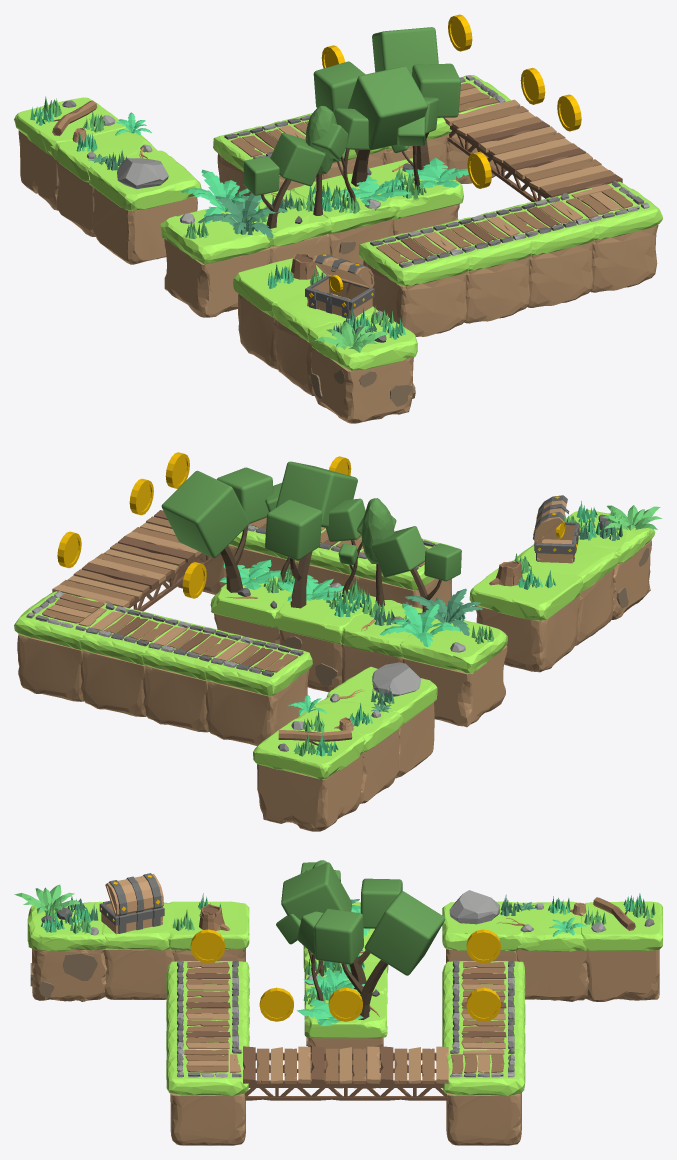
3 views of the same model, one above another, from view 1: azimuth 30°, elevation 25°; view 2: azimuth 150°, elevation 25°; view 3: azimuth 270°, elevation 25° (orthographic). The views are drawn at different scales.
Visible parts, largest first — view 1: TreeV3_004_1, TreeV3_004, Tile_Bot_Part_10, Tile_Bot_Part, Tile_Bot_Part_14, Tile_Bot_Part_15, TreeV3_004_2, Tile_Bot_Part_3, Tile_Bot_Part_2, Tile_Bot_Part_1, Tile_Top_Part_15, Tile_Top_Part_14 (+48 smaller); view 2: TreeV3_004, TreeV3_004_1, Tile_Bot_Part_16, Tile_Bot_Part_7, Tile_Bot_Part_9, Tile_Bot_Part_14, Tile_Top_Part_9, TreeV3_004_2, Tile_Bot_Part_4, Tile_Bot_Part_5, Tile_Bot_Part_6, Tile_Top_Part_14 (+50 smaller); view 3: TreeV3_004, TreeV3_004_1, Tile_Bot_Part_3, Tile_Bot_Part_4, Tile_Bot_Part_16, Bridge_003_1, Bridge_003, Bridge_003_2, Tile_Bot_Part_8, Tile_Bot_Part_17, Tile_Top_Part_16, Tile_Bot_Part_10 (+41 smaller).
Boxes of the visible parts, x1,y1,x2,y2 form: TreeV3_004_1: (313,61,427,186); TreeV3_004: (372,27,460,169); Tile_Bot_Part_10: (310,348,413,423); Tile_Bot_Part: (363,260,467,336); Tile_Bot_Part_14: (164,239,270,317); Tile_Bot_Part_15: (92,188,197,264); TreeV3_004_2: (243,133,325,228); Tile_Bot_Part_3: (590,224,658,292); Tile_Bot_Part_2: (527,240,593,307); Tile_Bot_Part_1: (464,256,530,323); Tile_Top_Part_15: (88,150,201,210); Tile_Top_Part_14: (160,207,270,264); TreeV3_004: (161,467,273,592); TreeV3_004_1: (265,461,357,608); Tile_Bot_Part_16: (257,753,362,831); Tile_Bot_Part_7: (206,670,309,745); Tile_Bot_Part_9: (474,595,579,672); Tile_Bot_Part_14: (402,645,507,727); Tile_Top_Part_9: (469,561,583,620); TreeV3_004_2: (371,526,461,612); Tile_Bot_Part_4: (17,634,83,701); Tile_Bot_Part_5: (81,650,146,716); Tile_Bot_Part_6: (143,666,209,732); Tile_Top_Part_14: (400,618,507,673); TreeV3_004: (314,891,445,1019); TreeV3_004_1: (281,862,402,989); Tile_Bot_Part_3: (170,1093,245,1145); Tile_Bot_Part_4: (446,1093,521,1145); Tile_Bot_Part_16: (586,949,659,1001); Bridge_003_1: (311,1046,380,1100); Bridge_003: (380,1046,448,1100); Bridge_003_2: (243,1046,311,1100); Tile_Bot_Part_8: (103,948,174,999); Tile_Bot_Part_17: (516,949,588,1001); Tile_Top_Part_16: (581,901,662,950); Tile_Bot_Part_10: (32,948,107,1001).
Size of the model in its own units: 6.46 by 2.99 by 9.41.
Materials: 1 (1 with a texture image).
